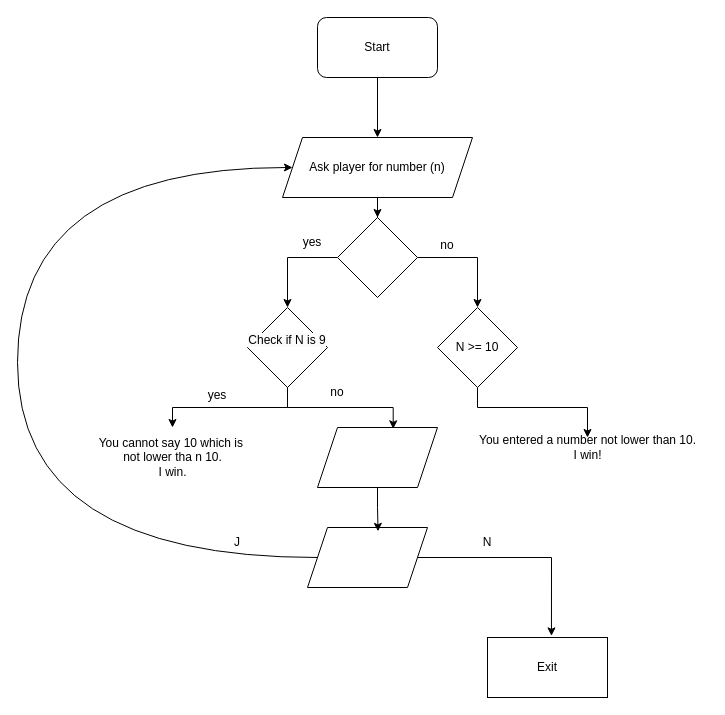
The diagram is 725 pixels wide and 715 high, and some of its shapes have lost their labels. Here are the shapes that lost their labels. From the top down, the centre of each, then its label:
the point at 377,257: If N < 10
the point at 377,457: N + 1, "I win"
the point at 367,557: Ask player to play again (J/N)
